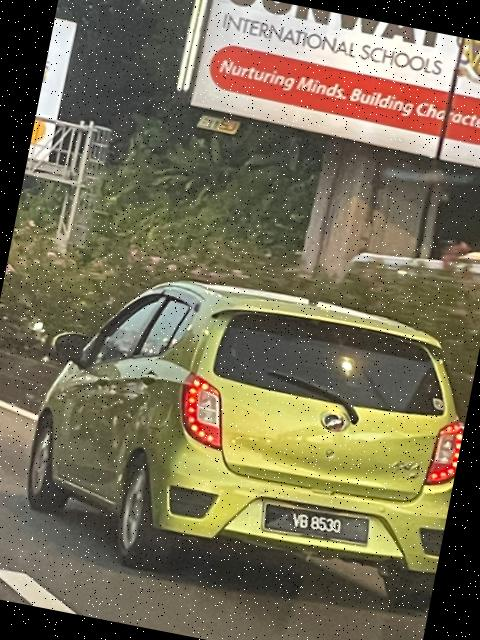License_Plate: (265, 499, 365, 547)
car: (4, 245, 480, 617)
